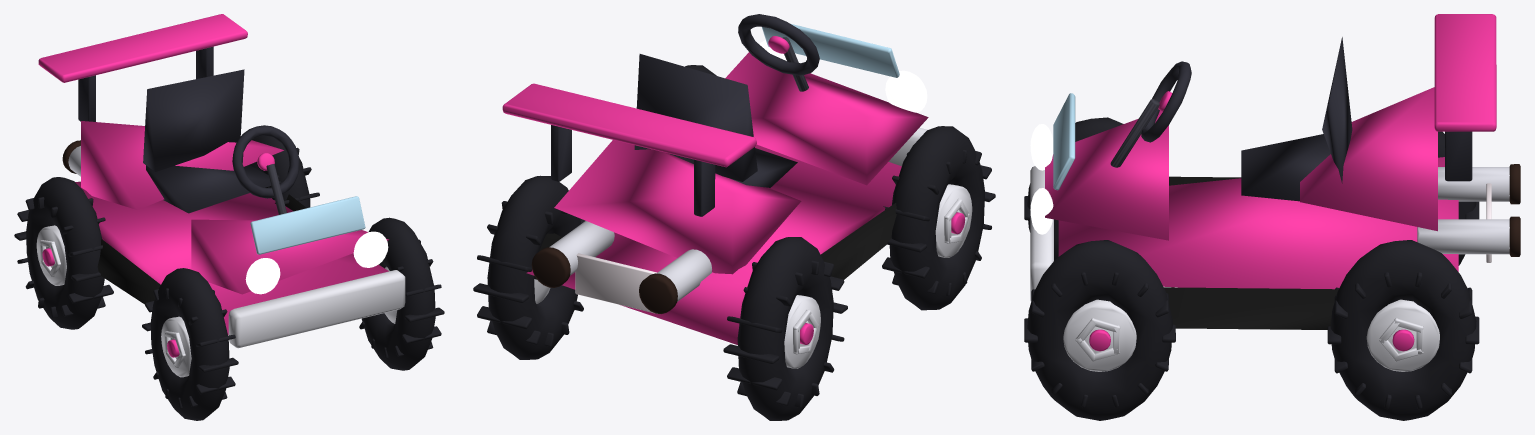
The model's file is kart-bajaj-lod.glb.
3 renders of one model, left to right at view 1: azimuth 30°, elevation 25°; view 2: azimuth 150°, elevation 25°; view 3: azimuth 270°, elevation 25°, orthographic. The views are drawn at different scales.
Parts seen in each view (by area): view 1: Cube, Cube.005, Torus.125, Cube.006, Torus.127, Cube.003, Cube.001, Cube.010, Torus.126, Cube.002, Cube.004, Torus.129 (+9 smaller); view 2: Cube.003, Cube.001, Cube, Torus.125, Torus.127, Torus.128, Cube.010, Cube.005, Cube.007, Cube.002, Cube.008, Torus.129 (+10 smaller); view 3: Cube, Torus.126, Torus.128, Cube.003, Cube.001, Cube.010, Cube.009, Cube.004, Cylinder.006, Cylinder.010, Cylinder.002, Cube.005 (+12 smaller).
Boxes of the visible parts, x1=… form: Cube: x1=75, y1=181, x2=388, y2=334; Cube.005: x1=143, y1=69, x2=244, y2=171; Torus.125: x1=150, y1=268, x2=229, y2=420; Cube.006: x1=228, y1=270, x2=405, y2=348; Torus.127: x1=26, y1=177, x2=104, y2=329; Cube.003: x1=81, y1=121, x2=283, y2=209; Cube.001: x1=191, y1=219, x2=388, y2=294; Cube.010: x1=38, y1=14, x2=247, y2=82; Torus.126: x1=361, y1=217, x2=435, y2=370; Cube.002: x1=250, y1=196, x2=365, y2=254; Cube.004: x1=146, y1=165, x2=281, y2=213; Torus.129: x1=232, y1=125, x2=299, y2=198; Cube.003: x1=554, y1=140, x2=801, y2=274; Cube.001: x1=725, y1=52, x2=928, y2=185; Cube: x1=526, y1=144, x2=901, y2=344; Torus.125: x1=889, y1=126, x2=984, y2=310; Torus.127: x1=737, y1=237, x2=833, y2=420; Torus.128: x1=487, y1=175, x2=581, y2=359; Cube.010: x1=502, y1=83, x2=756, y2=167; Cube.005: x1=634, y1=54, x2=757, y2=181; Cube.007: x1=575, y1=253, x2=657, y2=313; Cube.002: x1=762, y1=23, x2=899, y2=77; Cube.008: x1=821, y1=203, x2=896, y2=279; Torus.129: x1=738, y1=14, x2=819, y2=75; Cube: x1=1058, y1=157, x2=1458, y2=289; Torus.126: x1=1027, y1=240, x2=1172, y2=420; Torus.128: x1=1330, y1=240, x2=1476, y2=420; Cube.003: x1=1300, y1=87, x2=1437, y2=231; Cube.001: x1=1045, y1=110, x2=1168, y2=240; Cube.010: x1=1434, y1=14, x2=1496, y2=131; Cube.009: x1=1164, y1=287, x2=1338, y2=329; Cube.004: x1=1241, y1=134, x2=1330, y2=201; Cylinder.006: x1=1063, y1=299, x2=1136, y2=371; Cylinder.010: x1=1366, y1=299, x2=1439, y2=371; Cylinder.002: x1=1417, y1=219, x2=1509, y2=254; Cube.005: x1=1322, y1=37, x2=1352, y2=183.
Size of the model in its own units: 2.52 by 2.36 by 3.6.
